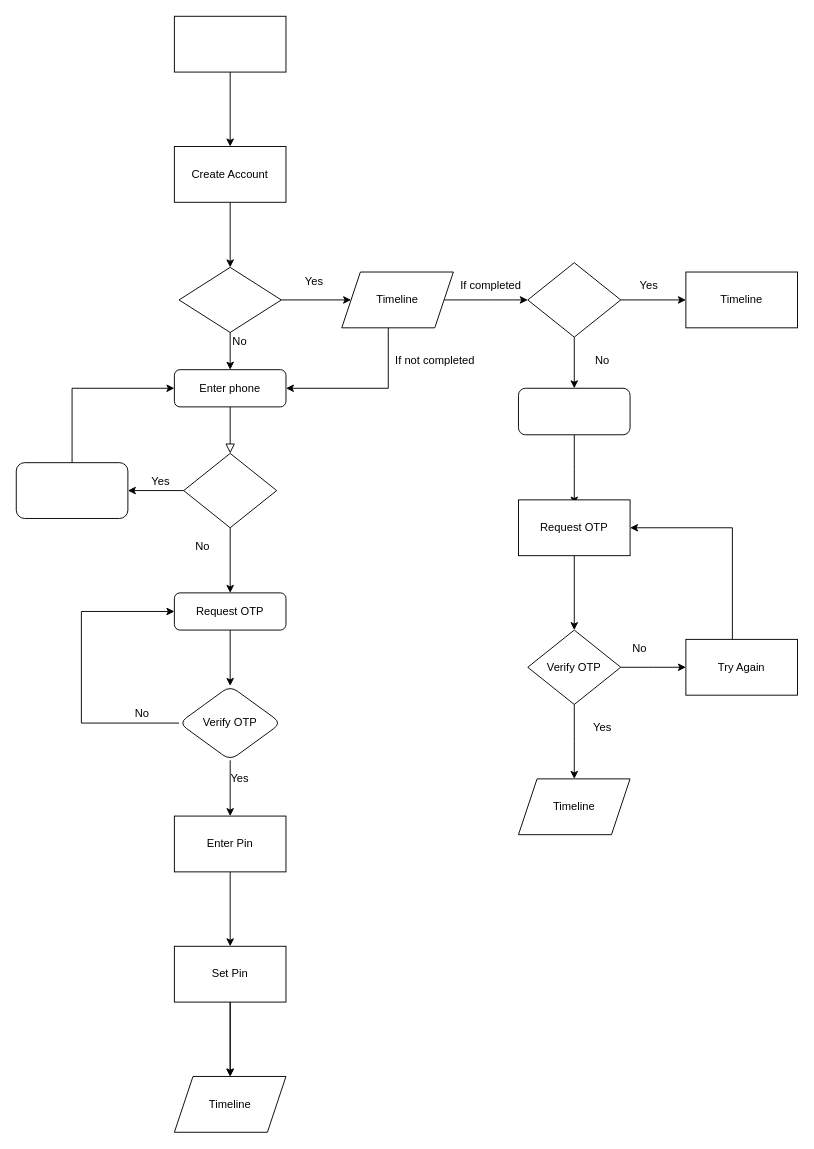
Some shapes in this 814 by 1149 pixel diagram are drawn without their labels. Each missing label, with the box of its shape:
Auto Fill Phone: (518, 387, 630, 435)
Check User: (183, 452, 277, 528)
Check verify: (527, 262, 621, 337)
Exist or not: (178, 266, 281, 332)
Register: (173, 15, 286, 72)
User already exist: (15, 462, 128, 518)
